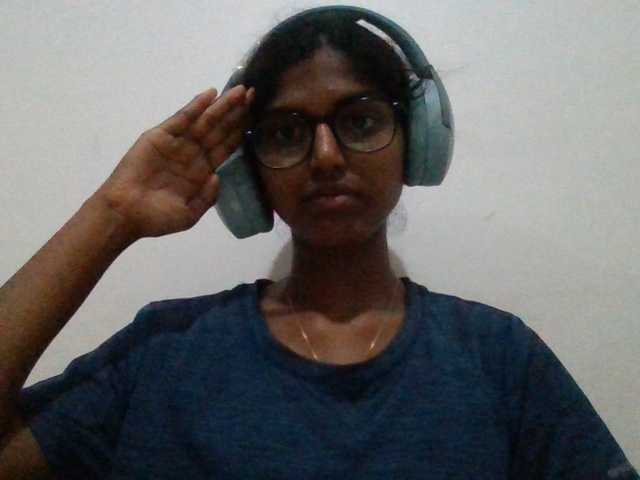Hello: (15, 26, 279, 330)
